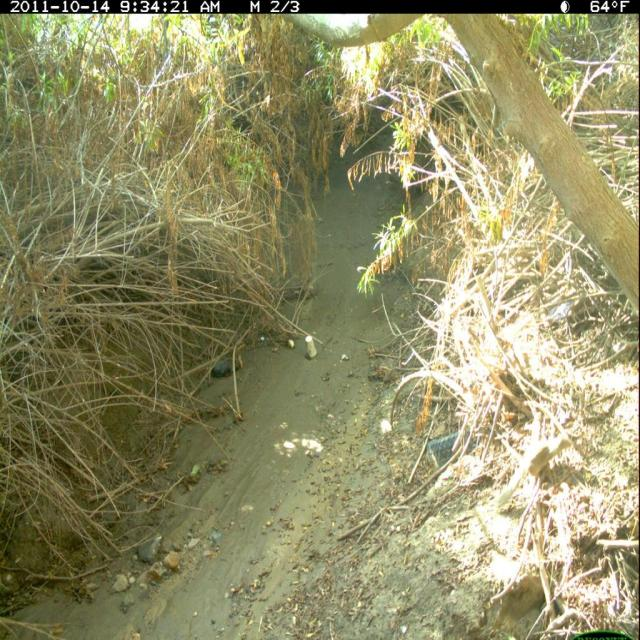squirrel: (492, 429, 577, 511)
